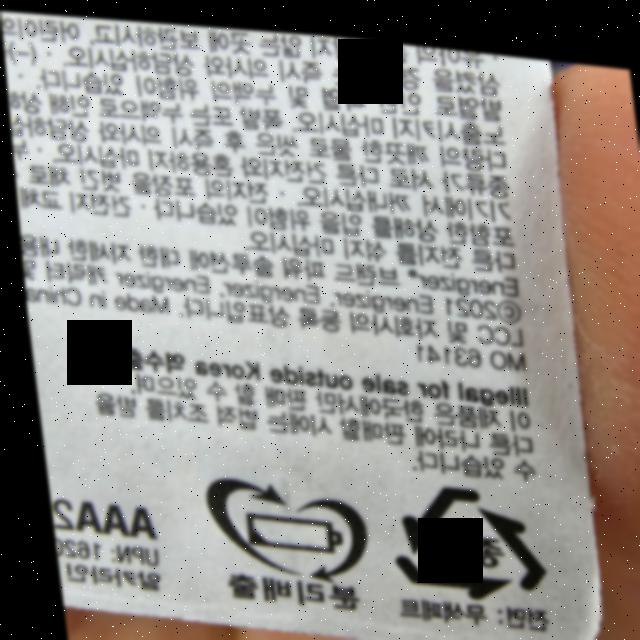Paper: (373, 465, 543, 600)
